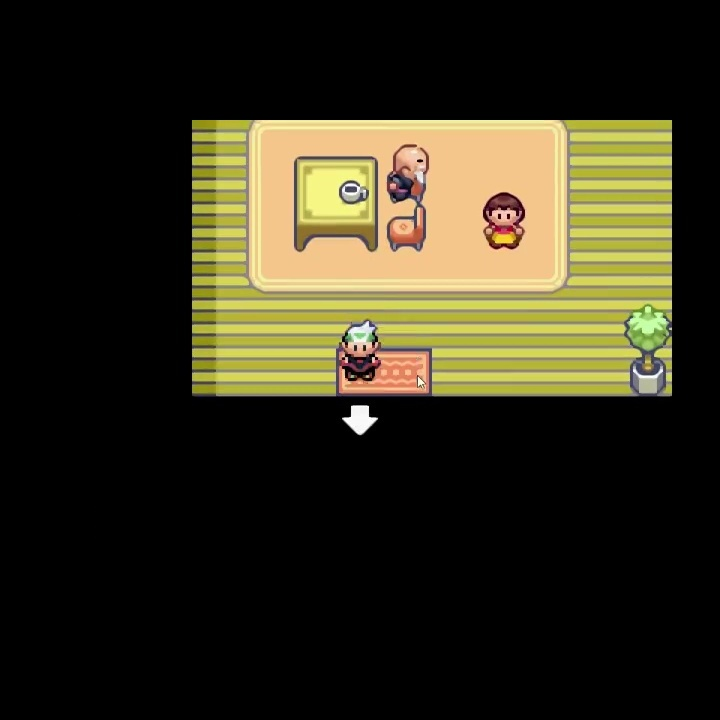agent: (338, 319, 383, 384)
exit: (335, 346, 434, 450)
npc: (479, 190, 528, 252), (385, 142, 430, 206)
